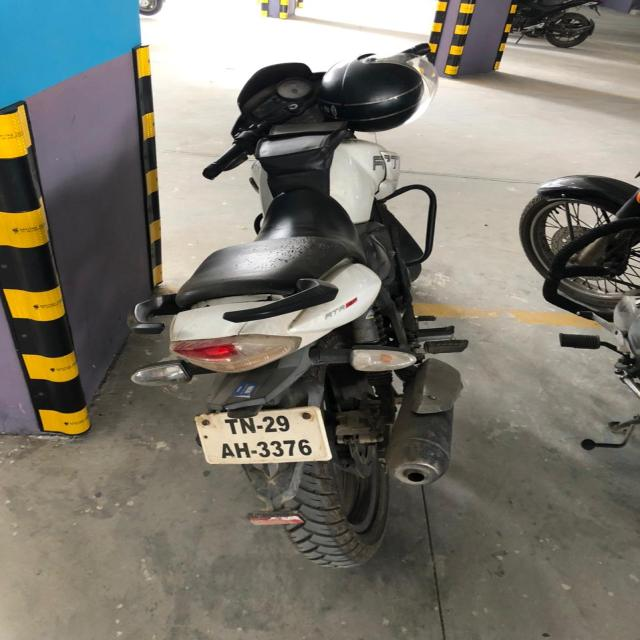number plate: (193, 405, 333, 465)
